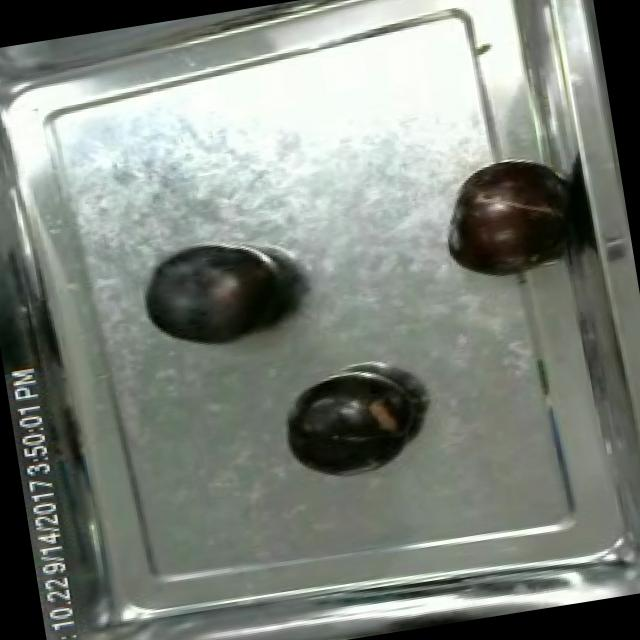Fruit: (130, 227, 298, 361), (434, 152, 568, 287), (276, 366, 418, 486)
